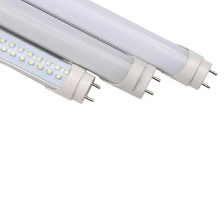light_bulb: (6, 0, 220, 94), (0, 0, 163, 101), (0, 23, 104, 104)
